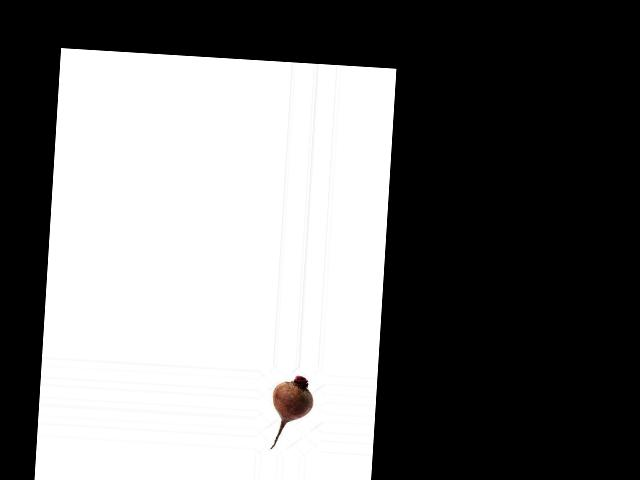beet: (269, 374, 315, 451)
